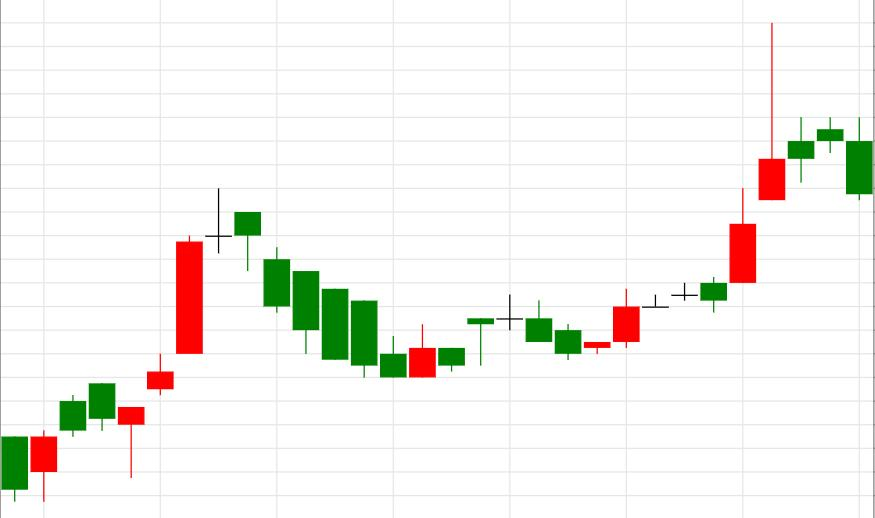shooting_star_fall: (584, 23, 785, 354)
